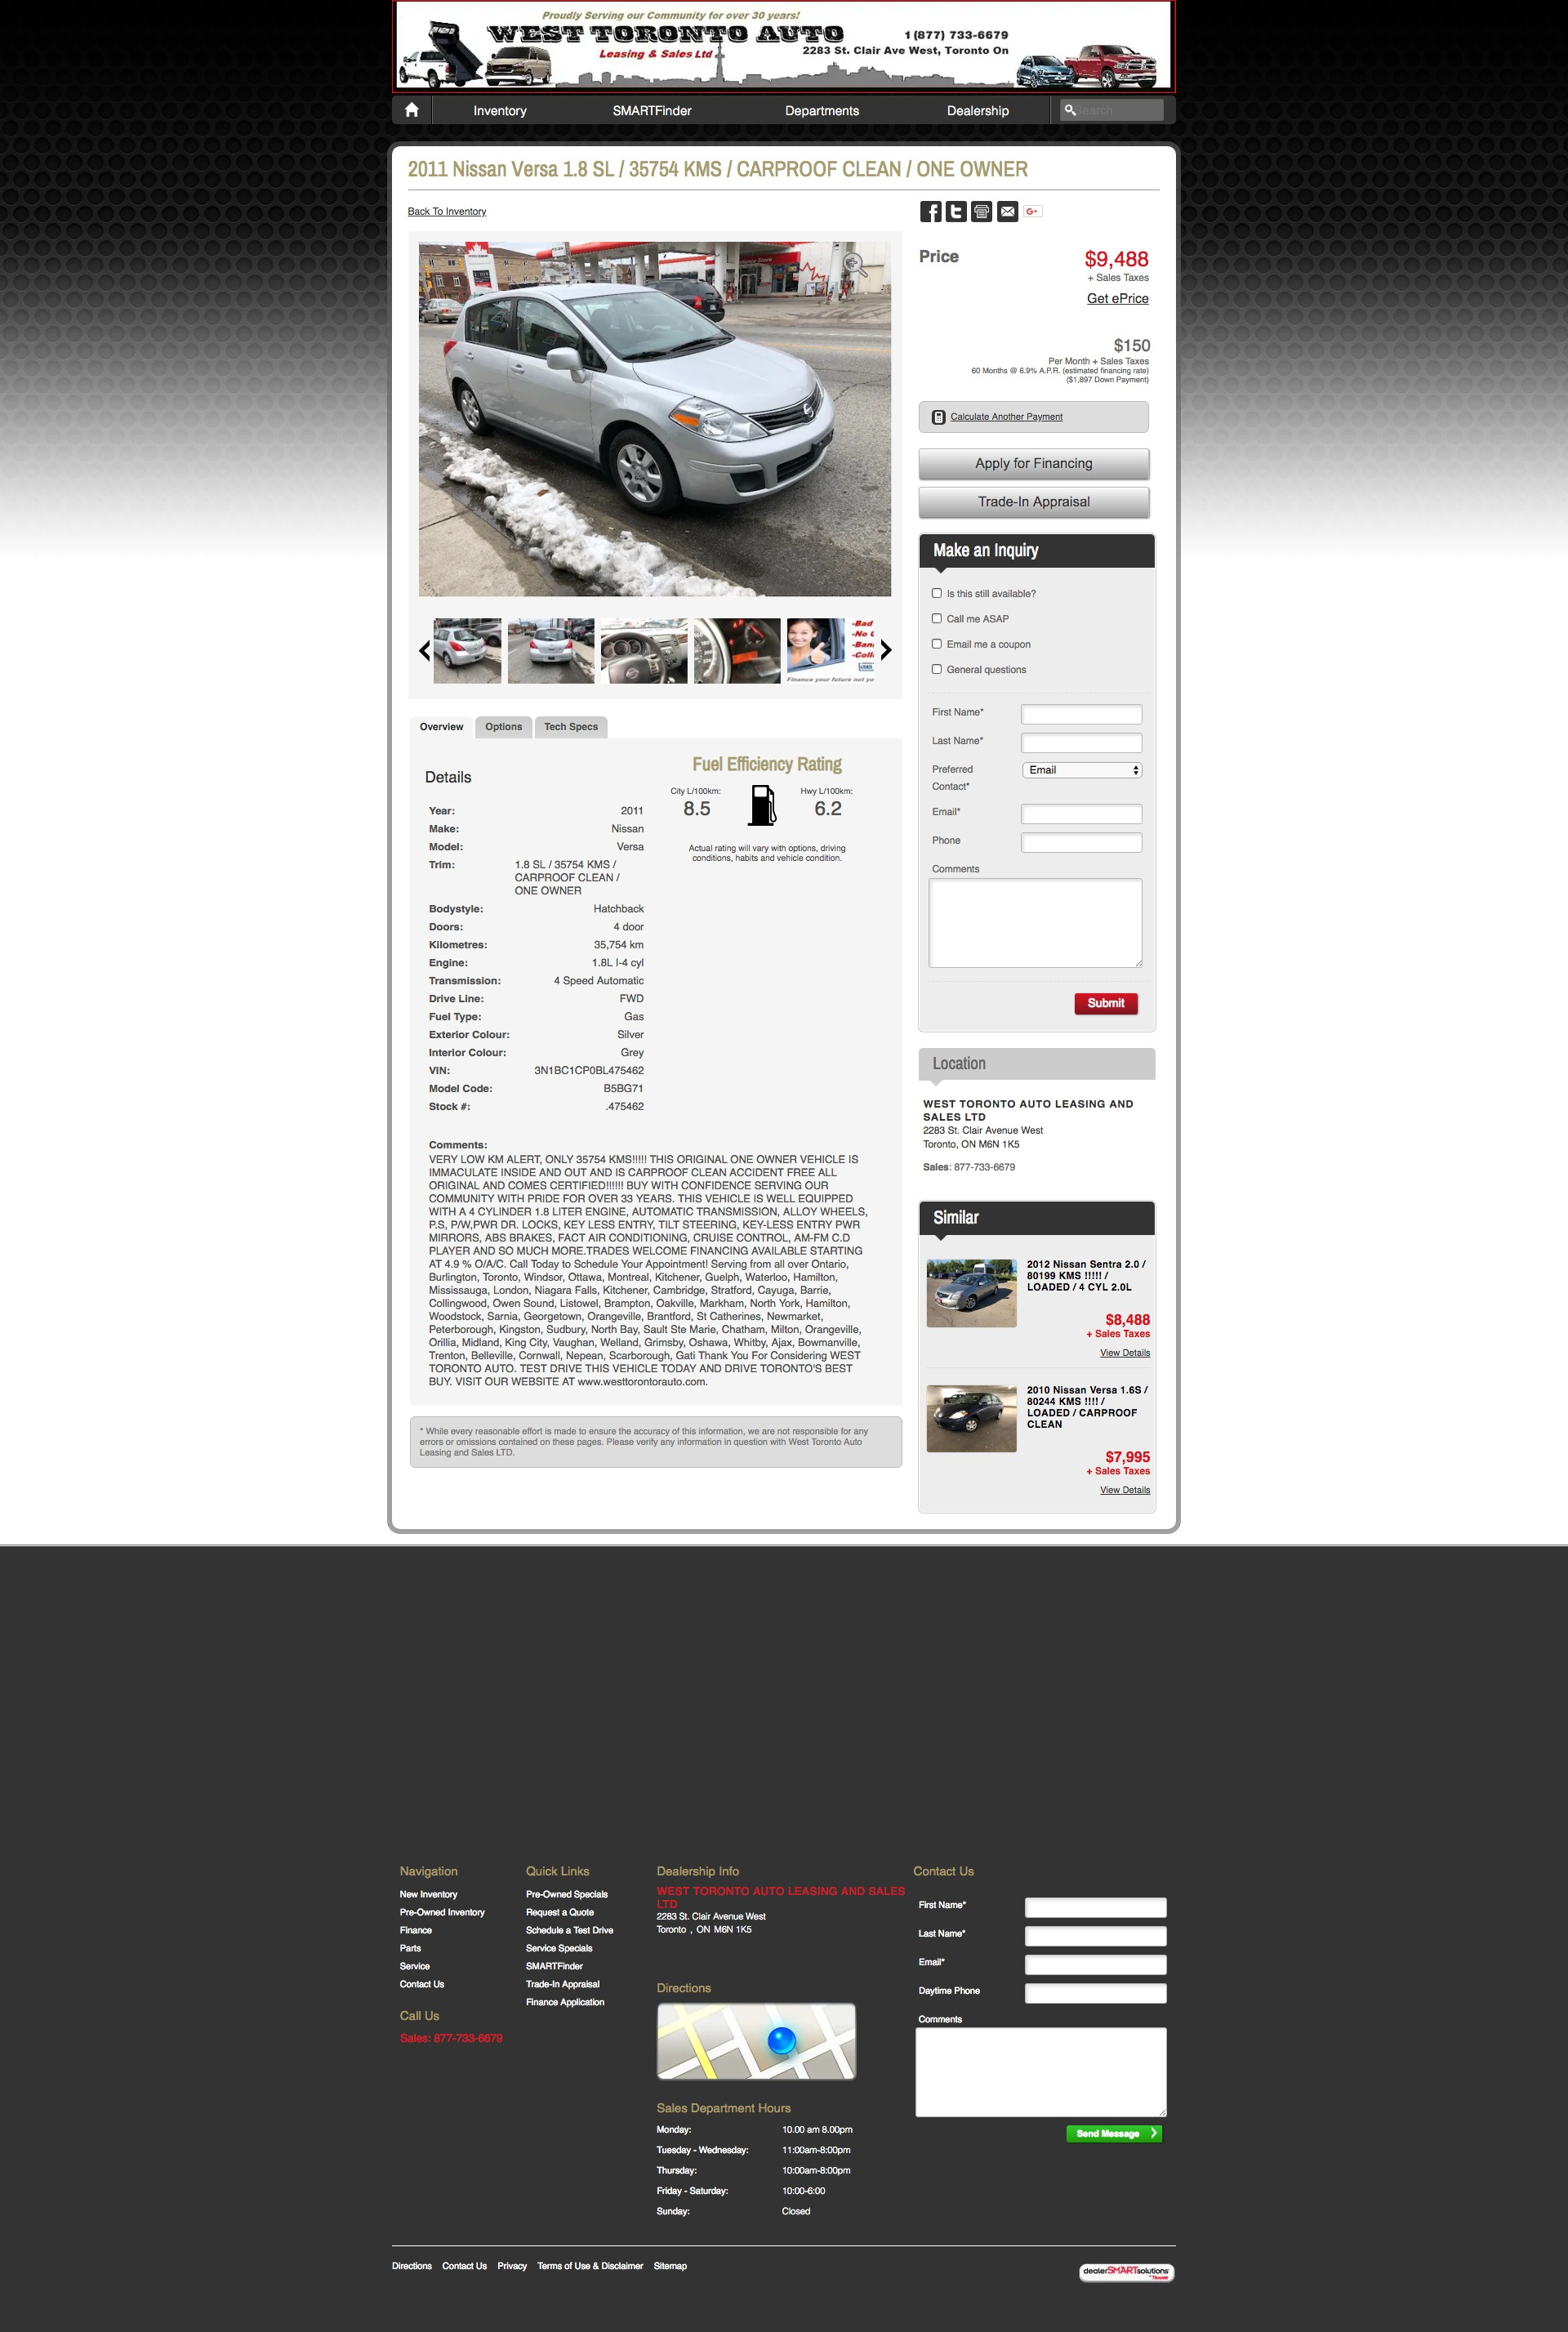car: (880, 637, 894, 665)
